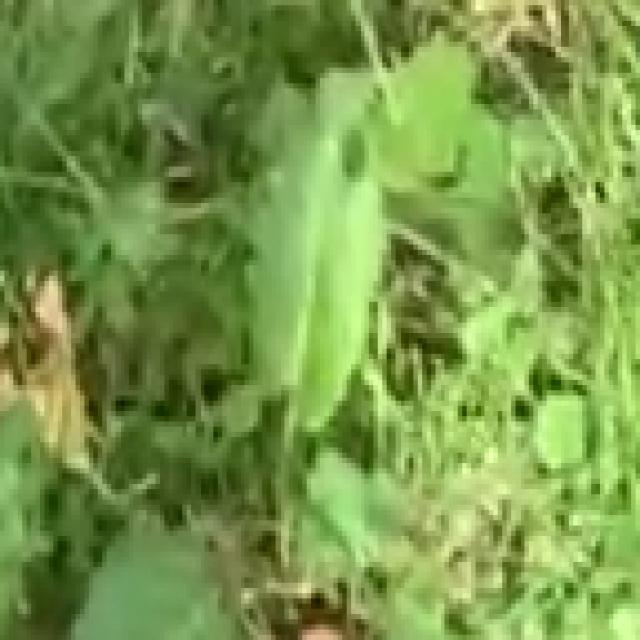organic waste: (191, 0, 533, 541)
